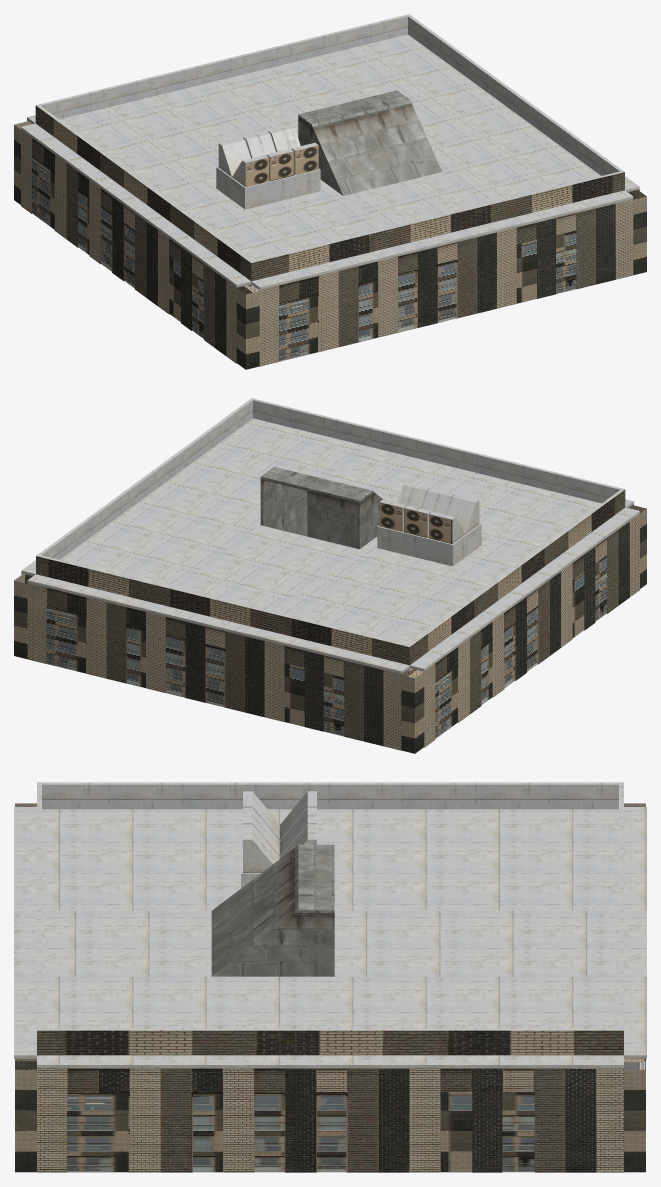
Rendered from BagSS04top_100.fbx.
3 views of the same model, one above another, from view 1: azimuth 30°, elevation 25°; view 2: azimuth 150°, elevation 25°; view 3: azimuth 270°, elevation 25° (orthographic). The views are drawn at different scales.
Visible parts, largest first — view 1: toproof100, topMain100, topBox100, toproofrim100, topStairwell100, topvents100; view 2: toproof100, topMain100, topBox100, toproofrim100, topStairwell100, topvents100; view 3: toproof100, topMain100, topBox100, toproofrim100, topStairwell100.
Part boxes in pixels (box(x1,y1,x2,y2)): toproof100: box(21, 14, 639, 290); topMain100: box(21, 120, 639, 366); topBox100: box(14, 121, 646, 369); toproofrim100: box(35, 105, 624, 281); topStairwell100: box(298, 90, 441, 195); topvents100: box(245, 145, 318, 186); toproof100: box(21, 398, 639, 674); topMain100: box(21, 504, 639, 750); topBox100: box(14, 505, 646, 753); toproofrim100: box(36, 489, 625, 665); topStairwell100: box(260, 467, 382, 549); topvents100: box(379, 502, 452, 543); toproof100: box(14, 782, 646, 1068); topMain100: box(37, 1068, 623, 1172); topBox100: box(15, 803, 645, 1172); toproofrim100: box(37, 1030, 623, 1055); topStairwell100: box(211, 844, 334, 976).
Size of the model in its own units: 22.1 by 6.71 by 22.1.
